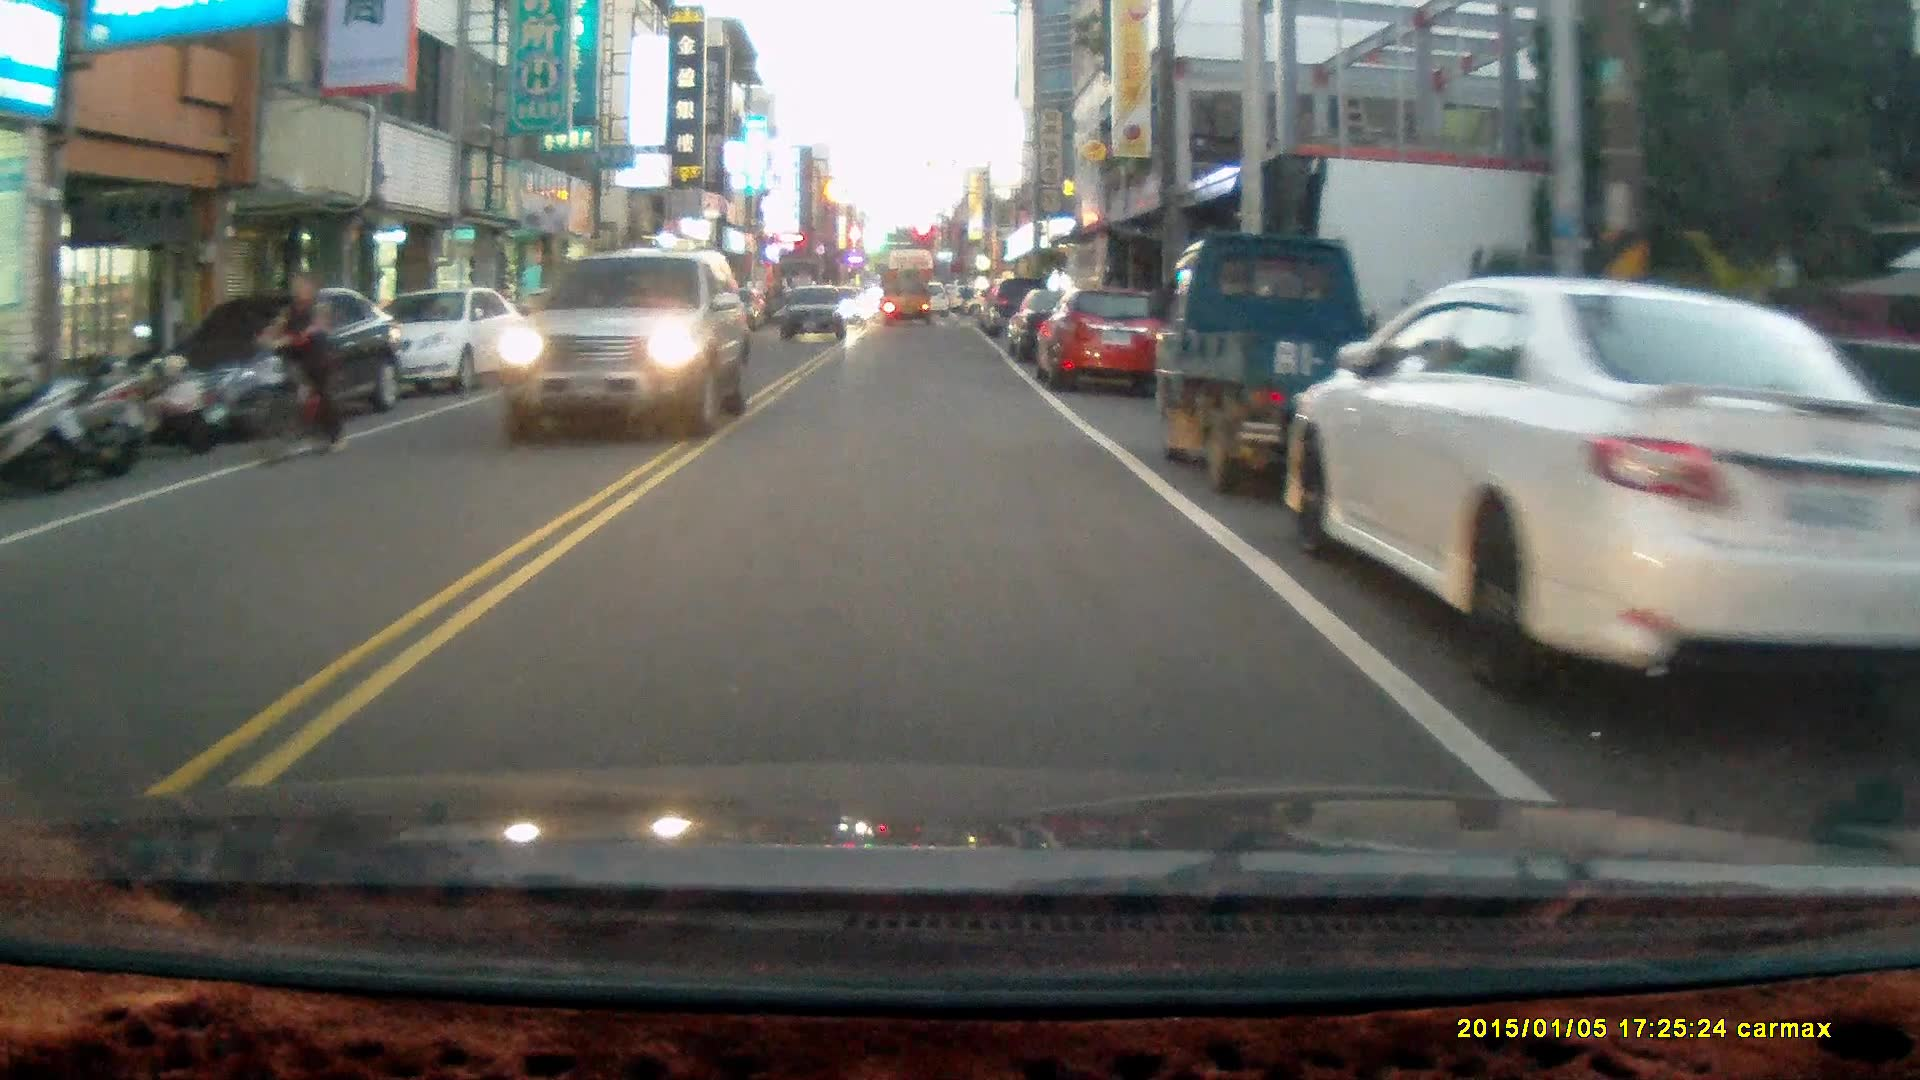rider: (250, 266, 348, 465)
vehicle: (1284, 275, 1920, 700), (1155, 229, 1438, 498), (493, 249, 753, 442), (149, 287, 396, 432), (324, 286, 513, 399), (1040, 288, 1167, 395), (776, 285, 849, 345), (880, 270, 933, 331)
